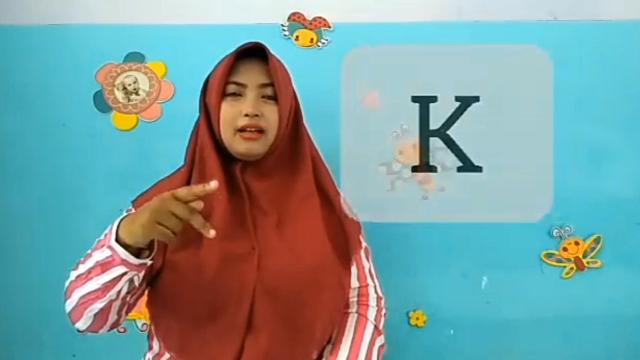K: (132, 179, 218, 253)
